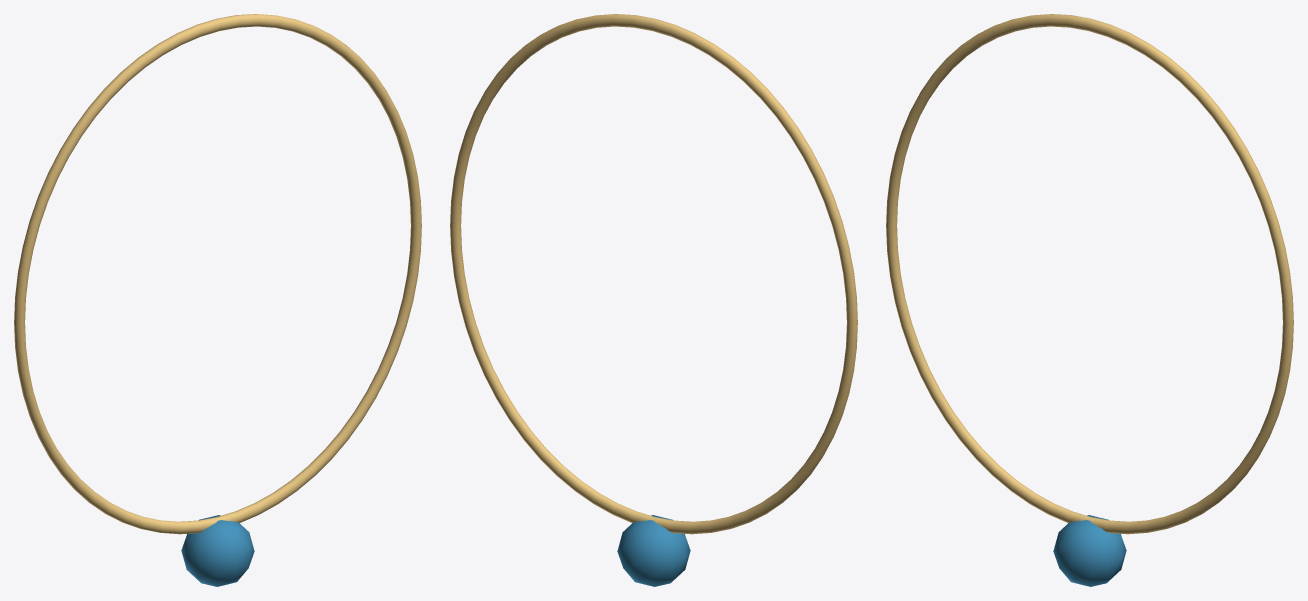
Rendered from sample-necklace.glb.
The picture shows the model from 3 angles, left to right: view 1: azimuth 30°, elevation 25°; view 2: azimuth 150°, elevation 25°; view 3: azimuth 330°, elevation 25°; orthographic projection.
Size of the model in its own units: 0.1536 by 0.2042 by 0.024.
